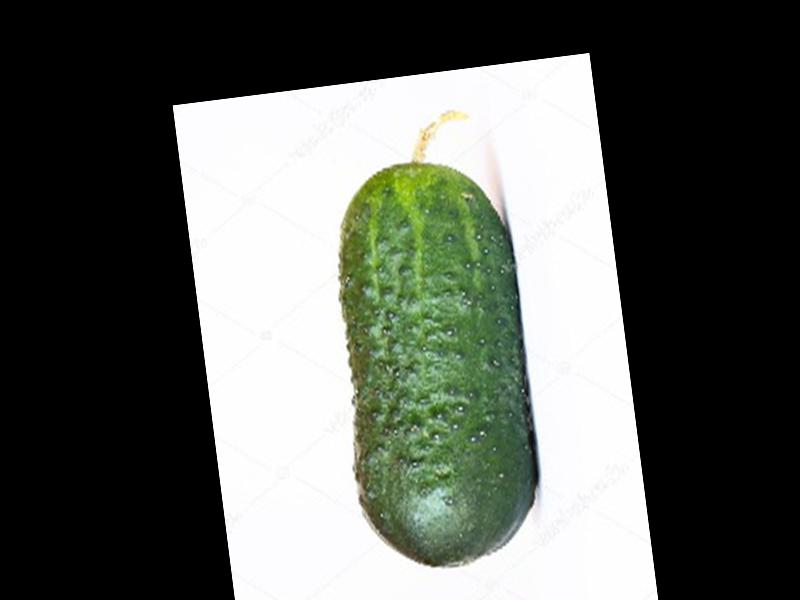Cucumber: (313, 102, 547, 573)
